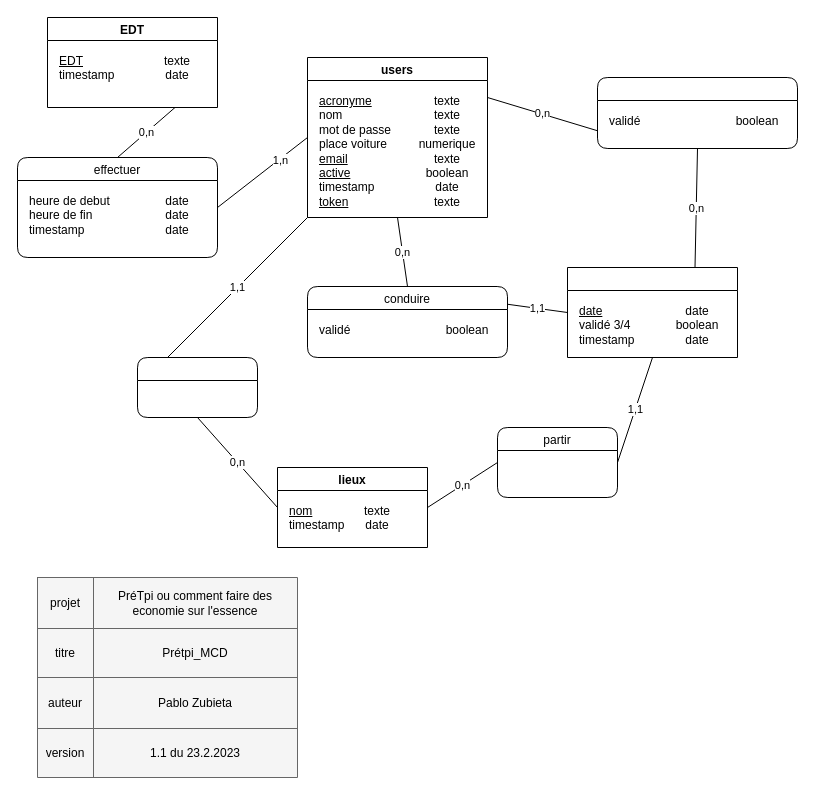
Image size: 815x795. Some labels were removed from this diagram. Each missing label, with the box of its shape:
covoiturage: (566, 266, 738, 358)
habiter: (136, 356, 258, 418)
être conduit: (596, 76, 798, 148)
